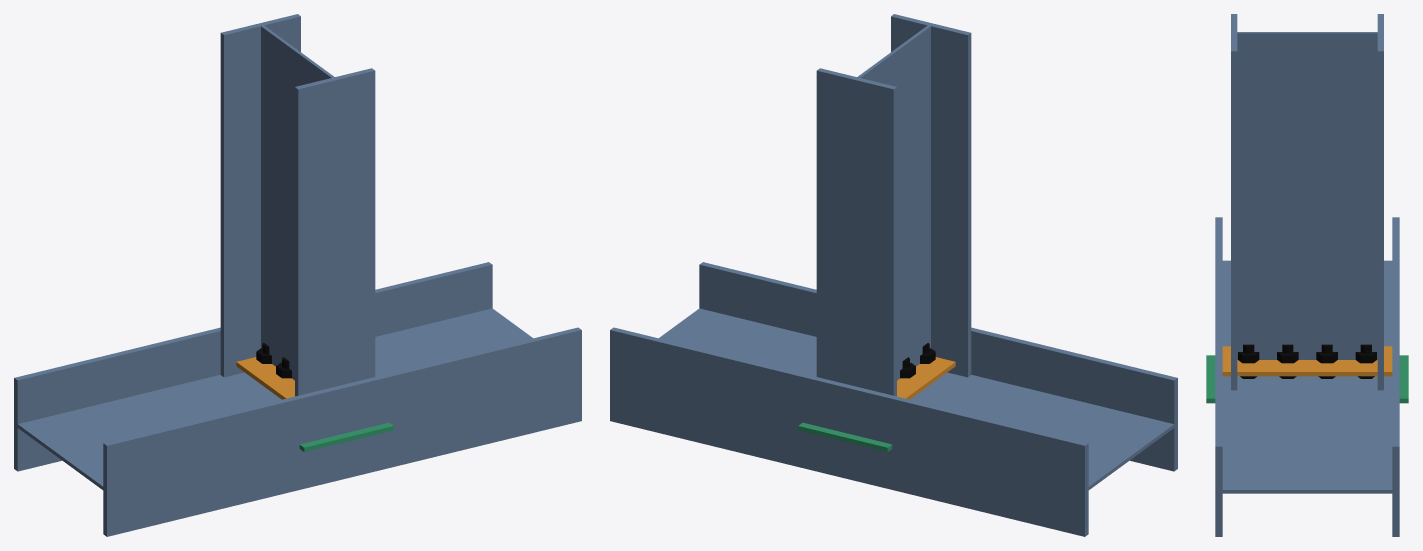
Rendered from detail_B8_beam_to_beam_connection.obj.
3 renders of one model, left to right at view 1: azimuth 30°, elevation 25°; view 2: azimuth 150°, elevation 25°; view 3: azimuth 270°, elevation 25°, orthographic.
Visible parts, largest first — view 1: B8_primary_beam_top_flange, B8_secondary_beam_top_flange, B8_primary_beam_bottom_flange, B8_primary_beam_web, B8_secondary_beam_bottom_flange, B8_secondary_beam_web, B8_PL8_fin_plate_100x295, B8_PL8_beam_web_doubler; view 2: B8_primary_beam_bottom_flange, B8_secondary_beam_bottom_flange, B8_primary_beam_top_flange, B8_primary_beam_web, B8_secondary_beam_top_flange, B8_secondary_beam_web, B8_PL8_fin_plate_100x295, B8_PL8_beam_web_doubler; view 3: B8_secondary_beam_web, B8_primary_beam_web, B8_PL8_fin_plate_100x295, B8_secondary_beam_top_flange, B8_secondary_beam_bottom_flange, B8_primary_beam_top_flange, B8_primary_beam_bottom_flange, B8_PL8_beam_web_doubler, bolt_M20_B8_1, bolt_M20_B8_2, bolt_M20_B8_3, bolt_M20_B8_4.
Boxes of the visible parts, bbox=[...] form: B8_primary_beam_top_flange: bbox=[103, 327, 581, 536]; B8_secondary_beam_top_flange: bbox=[295, 68, 375, 396]; B8_primary_beam_bottom_flange: bbox=[14, 262, 492, 471]; B8_primary_beam_web: bbox=[17, 308, 532, 489]; B8_secondary_beam_bottom_flange: bbox=[220, 14, 300, 377]; B8_secondary_beam_web: bbox=[261, 25, 334, 380]; B8_PL8_fin_plate_100x295: bbox=[236, 357, 294, 399]; B8_PL8_beam_web_doubler: bbox=[299, 422, 393, 451]; B8_primary_beam_bottom_flange: bbox=[610, 327, 1088, 536]; B8_secondary_beam_bottom_flange: bbox=[816, 68, 896, 396]; B8_primary_beam_top_flange: bbox=[699, 262, 1177, 471]; B8_primary_beam_web: bbox=[659, 308, 1174, 489]; B8_secondary_beam_top_flange: bbox=[891, 14, 971, 377]; B8_secondary_beam_web: bbox=[857, 25, 930, 380]; B8_PL8_fin_plate_100x295: bbox=[897, 357, 955, 399]; B8_PL8_beam_web_doubler: bbox=[798, 422, 892, 451]; B8_secondary_beam_web: bbox=[1237, 32, 1377, 359]; B8_primary_beam_web: bbox=[1222, 260, 1392, 493]; B8_PL8_fin_plate_100x295: bbox=[1222, 346, 1392, 376]; B8_secondary_beam_top_flange: bbox=[1231, 14, 1237, 390]; B8_secondary_beam_bottom_flange: bbox=[1377, 14, 1383, 390]; B8_primary_beam_top_flange: bbox=[1215, 217, 1222, 536]; B8_primary_beam_bottom_flange: bbox=[1392, 217, 1399, 536]; B8_PL8_beam_web_doubler: bbox=[1206, 355, 1408, 403]; bolt_M20_B8_1: bbox=[1355, 344, 1376, 378]; bolt_M20_B8_2: bbox=[1316, 344, 1337, 378]; bolt_M20_B8_3: bbox=[1277, 344, 1298, 378]; bolt_M20_B8_4: bbox=[1238, 344, 1259, 378].
Bounding box in the file's own units: 900 × 712 × 335.
